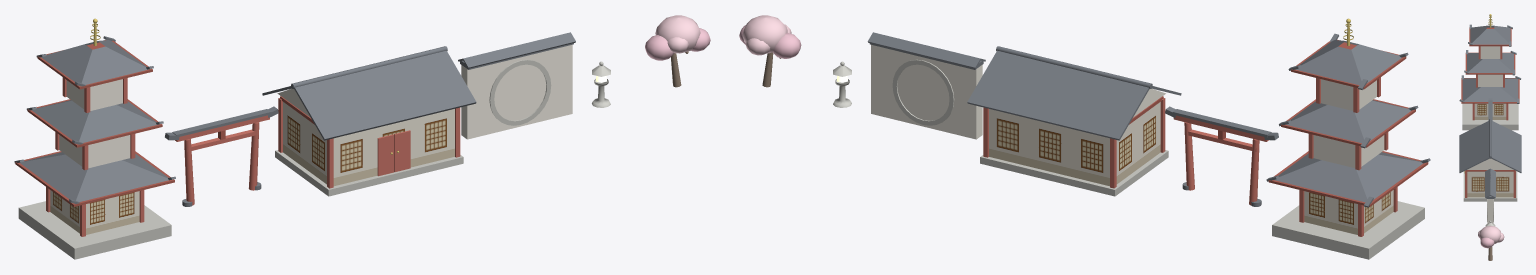
File: kit-22-asia-timur.glb
3 views of the same model, side by side, from view 1: azimuth 30°, elevation 25°; view 2: azimuth 150°, elevation 25°; view 3: azimuth 270°, elevation 25° (orthographic). The views are drawn at different scales.
Visible parts, largest first — view 1: Asia_Pagoda, Asia_RumahHalaman, Asia_GerbangBulan, Asia_GerbangTorii, Asia_PohonSakura, Asia_LenteraBatu; view 2: Asia_Pagoda, Asia_RumahHalaman, Asia_GerbangBulan, Asia_GerbangTorii, Asia_PohonSakura, Asia_LenteraBatu; view 3: Asia_Pagoda, Asia_RumahHalaman, Asia_PohonSakura, Asia_GerbangBulan, Asia_GerbangTorii.
Part boxes in pixels (x1,y1,x2,y2): Asia_Pagoda: [14, 18, 175, 259]; Asia_RumahHalaman: [262, 46, 476, 196]; Asia_GerbangBulan: [458, 32, 575, 139]; Asia_GerbangTorii: [165, 106, 278, 206]; Asia_PohonSakura: [645, 15, 710, 87]; Asia_LenteraBatu: [592, 61, 610, 107]; Asia_Pagoda: [1266, 18, 1430, 259]; Asia_RumahHalaman: [967, 46, 1181, 196]; Asia_GerbangBulan: [867, 32, 985, 139]; Asia_GerbangTorii: [1165, 106, 1278, 206]; Asia_PohonSakura: [739, 15, 801, 87]; Asia_LenteraBatu: [833, 61, 851, 107]; Asia_Pagoda: [1459, 14, 1521, 130]; Asia_RumahHalaman: [1459, 119, 1521, 201]; Asia_PohonSakura: [1478, 225, 1504, 260]; Asia_GerbangBulan: [1485, 168, 1495, 223]; Asia_GerbangTorii: [1488, 98, 1492, 120].
Bounding box in the file's own units: 31.47 × 9.47 × 5.14.
Materials: 11 (1 with a texture image).
